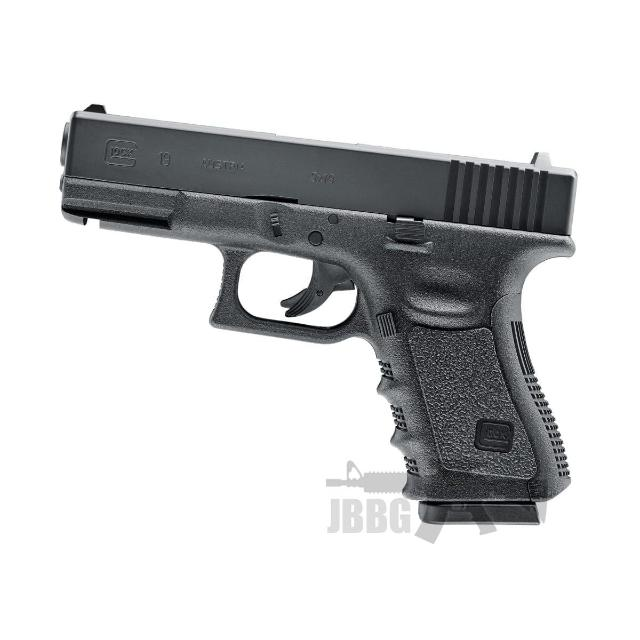handgun: (57, 101, 580, 525)
